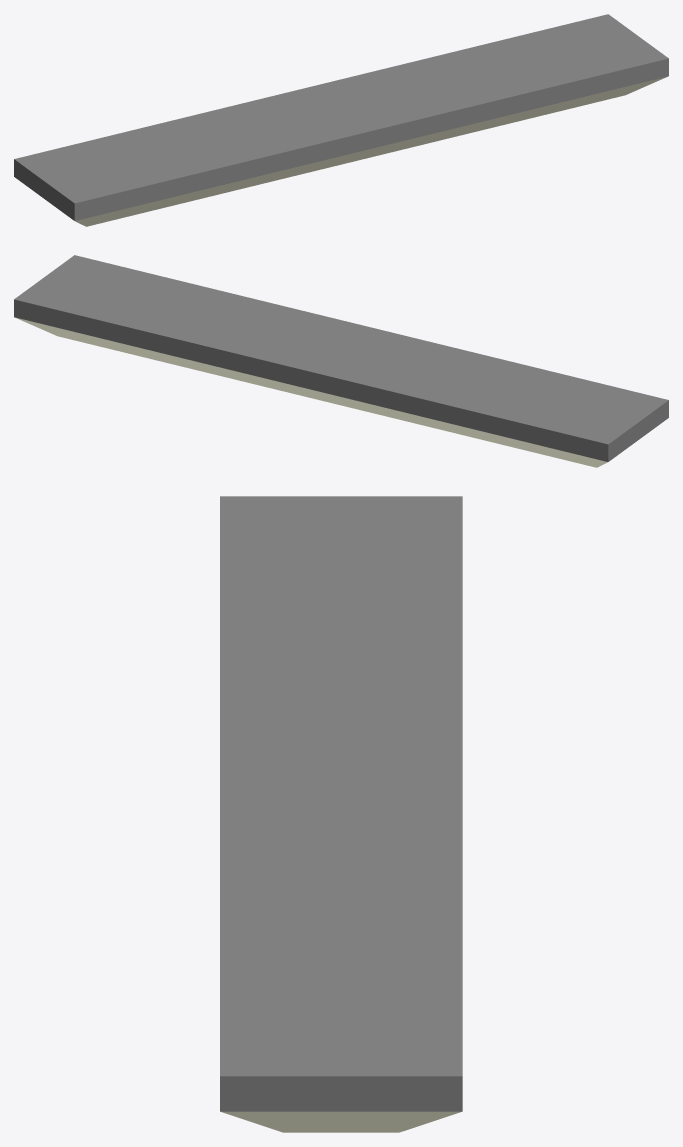
File: lights.fbx
3 views of the same model, one above another, from view 1: azimuth 30°, elevation 25°; view 2: azimuth 150°, elevation 25°; view 3: azimuth 270°, elevation 25° (orthographic). The views are drawn at different scales.
Visible parts, largest first — view 1: polySurface1; view 2: polySurface1; view 3: polySurface1.
Part boxes in pixels (x1=…): polySurface1: x1=14, y1=14, x2=668, y2=226; polySurface1: x1=14, y1=255, x2=668, y2=467; polySurface1: x1=220, y1=496, x2=462, y2=1132.
Bounding box in the file's own units: 21.6 × 1.45 × 3.82.
